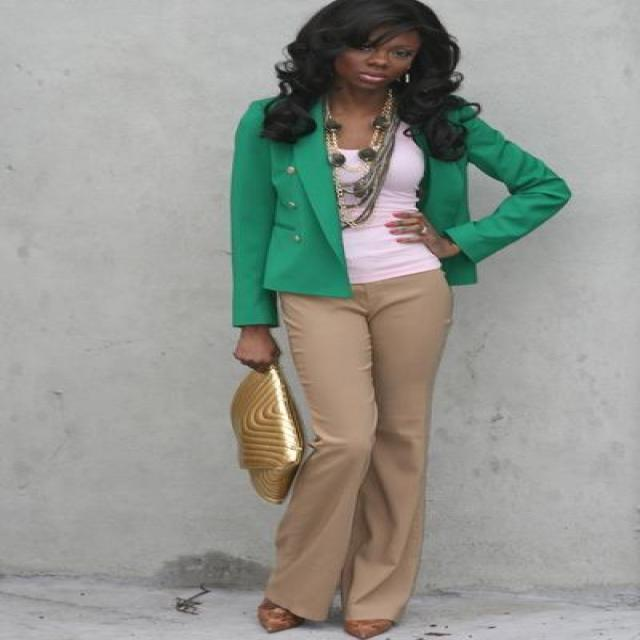bag: (230, 369, 336, 510)
jacket: (230, 97, 570, 337)
pants: (264, 269, 456, 626)
shirt: (333, 140, 440, 282)
shoe: (258, 602, 397, 639)
